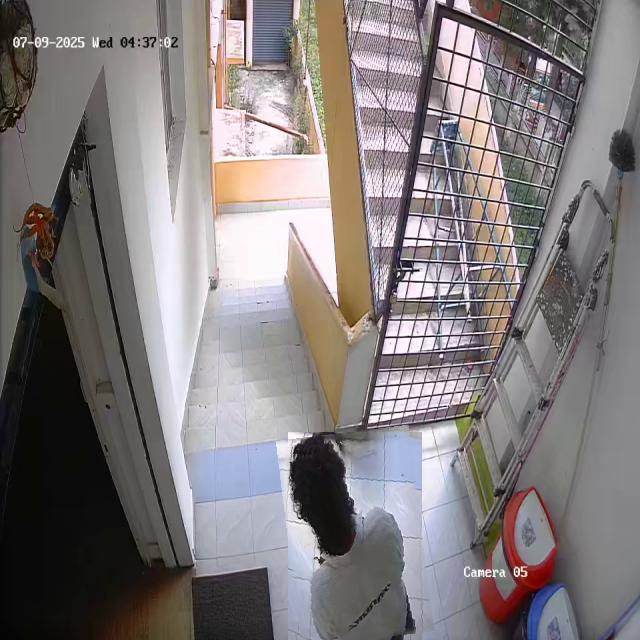person: (281, 428, 428, 640)
